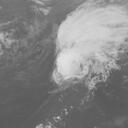cyclone: (54, 2, 117, 88)
